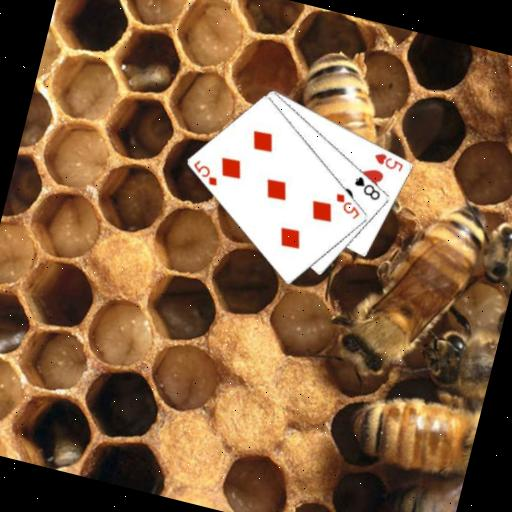5D: (187, 156, 224, 189), (329, 190, 366, 222)
5H: (370, 148, 407, 174)
8S: (349, 173, 386, 204)
